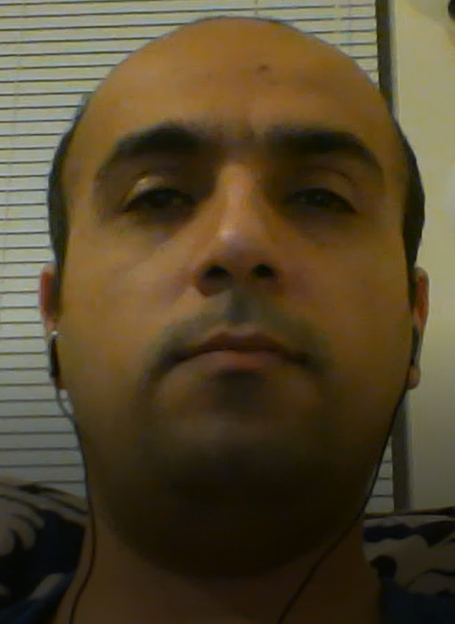Half Asleep: (96, 120, 386, 244)
